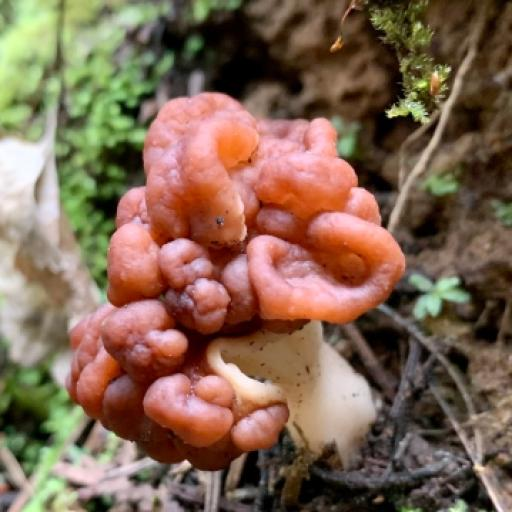False Morel: (60, 82, 455, 496)
